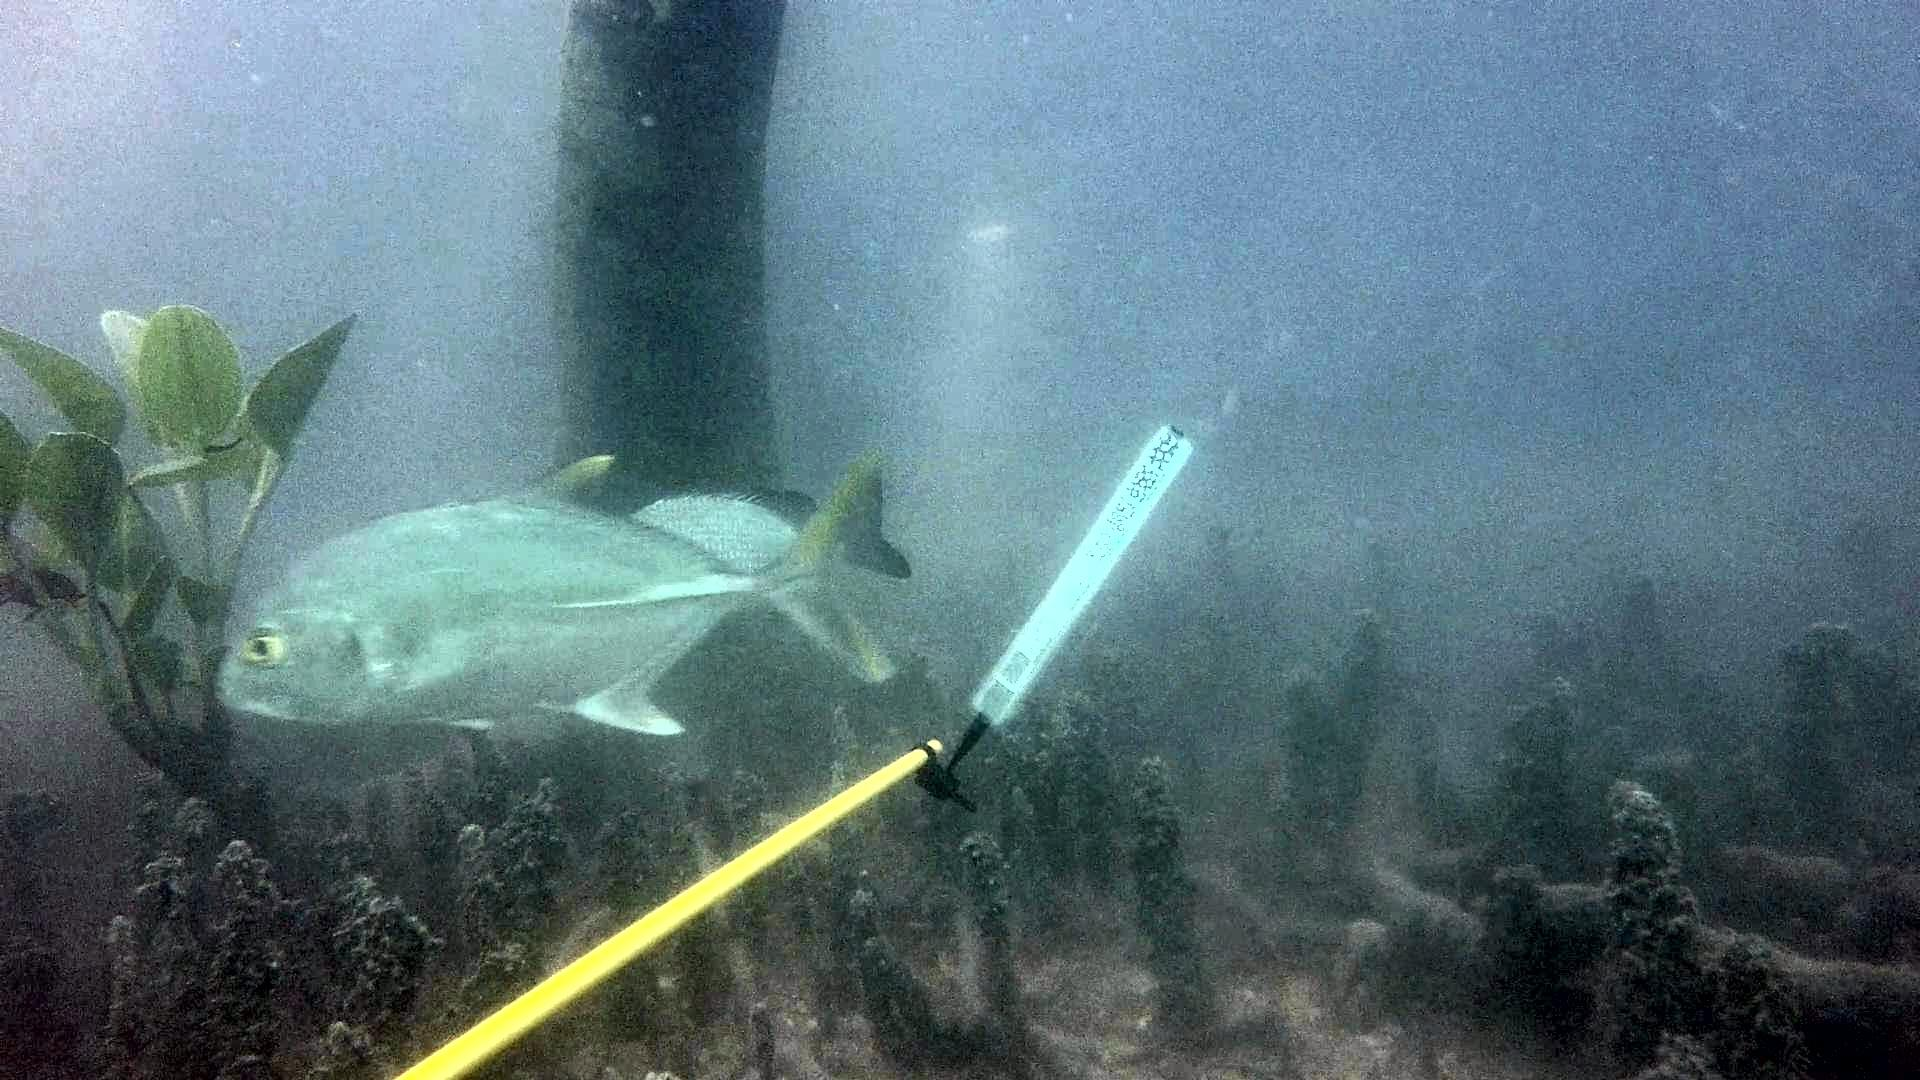caranx: (208, 446, 903, 748)
